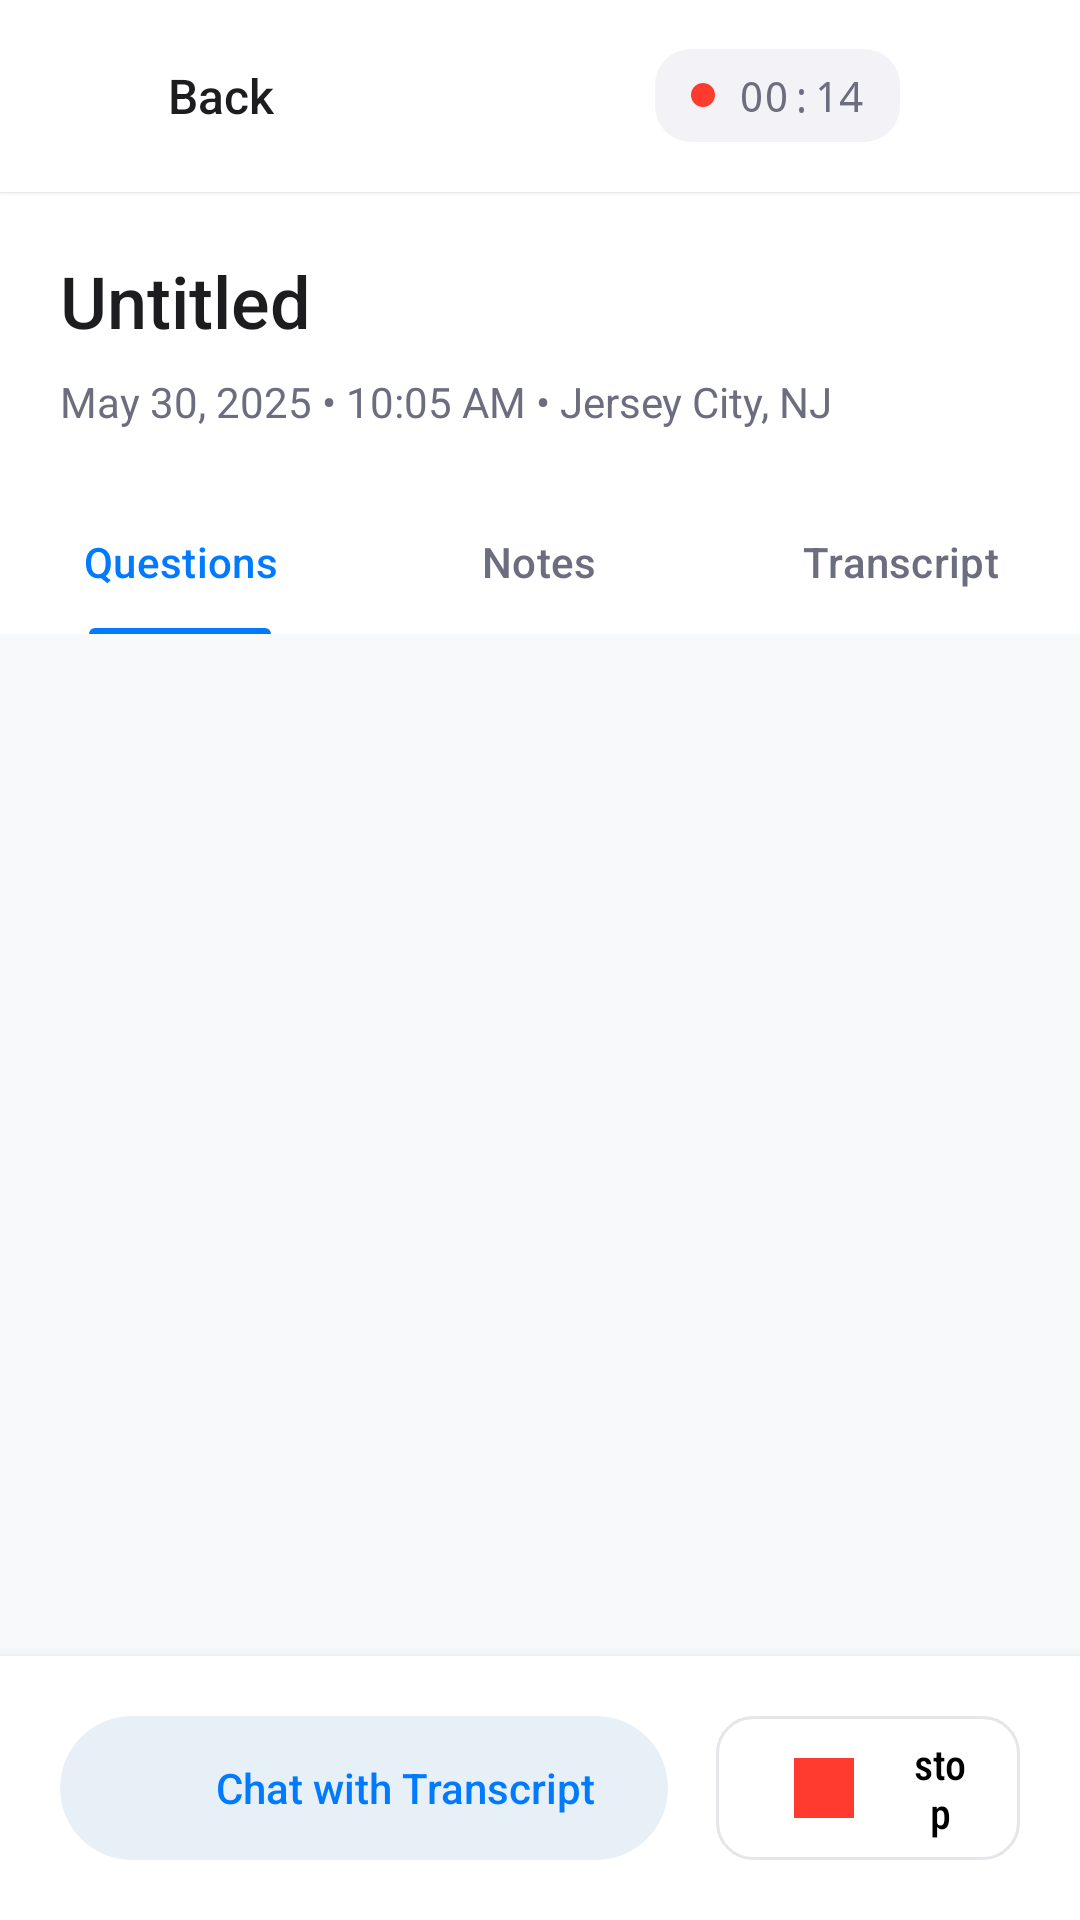

Screen size 1080 x 1920. Icon name, then its box in pixels as (x1, y1, x2, y2):
recording dot: (691, 83, 715, 107)
